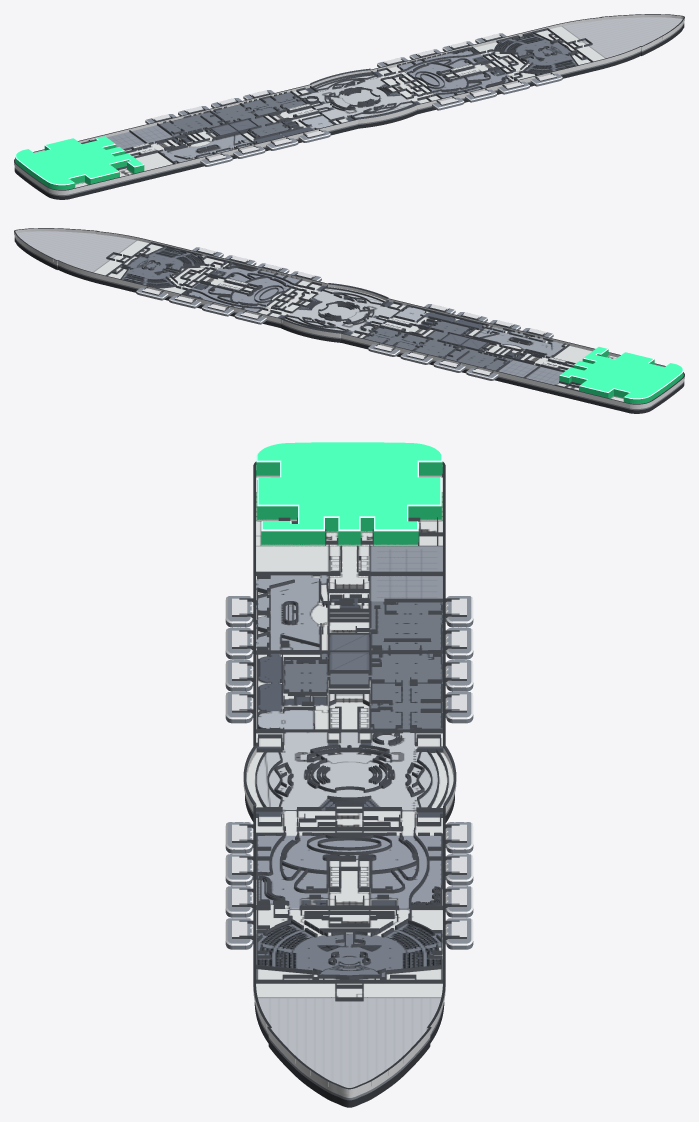
The model's file is Deck6_Il_Meneghino_Highlight.glb.
3 renders of one model, top to bottom at view 1: azimuth 30°, elevation 25°; view 2: azimuth 150°, elevation 25°; view 3: azimuth 270°, elevation 25°, orthographic. The views are drawn at different scales.
Parts seen in each view (by area): view 1: Deck6_Il_Meneghino_Interior_Walls_Monochrome, Deck6_Il_Meneghino_Main_Floor_Slab, Deck6_Il_Meneghino_Outer_Hull_Bulwark_Wall, Deck6_Il_Meneghino_MDR_Embossed_Highlight_Block, Deck6_Il_Meneghino_ZoneRelief_Arlecchino, Deck6_Il_Meneghino_ZoneRelief_Colosseo, Deck6_Il_Meneghino_Hull_Plinth_Obsidian, Deck6_Il_Meneghino_ZoneRelief_Mastroianni_Bar, Deck6_Il_Meneghino_ZoneRelief_Sanremo_Theatre, Deck6_Il_Meneghino_ZoneRelief_Jazz_Club, Deck6_Il_Meneghino_Hull_Waterline_Titanium, Deck6_Il_Meneghino_Engine_Casing_3D_Core; view 2: Deck6_Il_Meneghino_Interior_Walls_Monochrome, Deck6_Il_Meneghino_Main_Floor_Slab, Deck6_Il_Meneghino_Outer_Hull_Bulwark_Wall, Deck6_Il_Meneghino_MDR_Embossed_Highlight_Block, Deck6_Il_Meneghino_ZoneRelief_Arlecchino, Deck6_Il_Meneghino_ZoneRelief_Colosseo, Deck6_Il_Meneghino_Hull_Plinth_Obsidian, Deck6_Il_Meneghino_ZoneRelief_Mastroianni_Bar, Deck6_Il_Meneghino_ZoneRelief_Sanremo_Theatre, Deck6_Il_Meneghino_ZoneRelief_Jazz_Club, Deck6_Il_Meneghino_Hull_Waterline_Titanium, Deck6_Il_Meneghino_Engine_Casing_3D_Core; view 3: Deck6_Il_Meneghino_Main_Floor_Slab, Deck6_Il_Meneghino_Interior_Walls_Monochrome, Deck6_Il_Meneghino_MDR_Embossed_Highlight_Block, Deck6_Il_Meneghino_ZoneRelief_Arlecchino, Deck6_Il_Meneghino_ZoneRelief_Colosseo, Deck6_Il_Meneghino_ZoneRelief_Mastroianni_Bar, Deck6_Il_Meneghino_ZoneRelief_Sanremo_Theatre, Deck6_Il_Meneghino_Outer_Hull_Bulwark_Wall, Deck6_Il_Meneghino_ZoneRelief_Jazz_Club, Deck6_Il_Meneghino_Hull_Plinth_Obsidian, Deck6_Il_Meneghino_Engine_Casing_3D_Core, Deck6_Il_Meneghino_ZoneRelief_Photo_Store (+1 smaller).
Part boxes in pixels (x1,y1,x2,y2): Deck6_Il_Meneghino_Interior_Walls_Monochrome: [81, 28, 593, 170]; Deck6_Il_Meneghino_Main_Floor_Slab: [14, 17, 684, 194]; Deck6_Il_Meneghino_Outer_Hull_Bulwark_Wall: [14, 14, 684, 193]; Deck6_Il_Meneghino_MDR_Embossed_Highlight_Block: [15, 136, 144, 189]; Deck6_Il_Meneghino_ZoneRelief_Arlecchino: [159, 92, 305, 137]; Deck6_Il_Meneghino_ZoneRelief_Colosseo: [300, 75, 412, 119]; Deck6_Il_Meneghino_Hull_Plinth_Obsidian: [14, 24, 684, 199]; Deck6_Il_Meneghino_ZoneRelief_Mastroianni_Bar: [399, 50, 509, 97]; Deck6_Il_Meneghino_ZoneRelief_Sanremo_Theatre: [496, 33, 576, 74]; Deck6_Il_Meneghino_ZoneRelief_Jazz_Club: [160, 134, 251, 162]; Deck6_Il_Meneghino_Hull_Waterline_Titanium: [14, 23, 684, 196]; Deck6_Il_Meneghino_Engine_Casing_3D_Core: [209, 119, 256, 135]; Deck6_Il_Meneghino_Interior_Walls_Monochrome: [105, 242, 581, 390]; Deck6_Il_Meneghino_Main_Floor_Slab: [14, 231, 684, 408]; Deck6_Il_Meneghino_Outer_Hull_Bulwark_Wall: [14, 228, 684, 407]; Deck6_Il_Meneghino_MDR_Embossed_Highlight_Block: [559, 347, 683, 403]; Deck6_Il_Meneghino_ZoneRelief_Arlecchino: [365, 321, 513, 370]; Deck6_Il_Meneghino_ZoneRelief_Colosseo: [287, 288, 398, 333]; Deck6_Il_Meneghino_Hull_Plinth_Obsidian: [14, 238, 684, 413]; Deck6_Il_Meneghino_ZoneRelief_Mastroianni_Bar: [189, 264, 299, 312]; Deck6_Il_Meneghino_ZoneRelief_Sanremo_Theatre: [122, 247, 203, 287]; Deck6_Il_Meneghino_ZoneRelief_Jazz_Club: [475, 327, 563, 357]; Deck6_Il_Meneghino_Hull_Waterline_Titanium: [14, 237, 684, 410]; Deck6_Il_Meneghino_Engine_Casing_3D_Core: [442, 333, 489, 349]; Deck6_Il_Meneghino_Main_Floor_Slab: [246, 470, 453, 1097]; Deck6_Il_Meneghino_Interior_Walls_Monochrome: [255, 467, 448, 1001]; Deck6_Il_Meneghino_MDR_Embossed_Highlight_Block: [256, 442, 442, 544]; Deck6_Il_Meneghino_ZoneRelief_Arlecchino: [284, 601, 442, 729]; Deck6_Il_Meneghino_ZoneRelief_Colosseo: [256, 732, 437, 811]; Deck6_Il_Meneghino_ZoneRelief_Mastroianni_Bar: [257, 835, 441, 909]; Deck6_Il_Meneghino_ZoneRelief_Sanremo_Theatre: [257, 923, 441, 978]; Deck6_Il_Meneghino_Outer_Hull_Bulwark_Wall: [243, 461, 456, 1094]; Deck6_Il_Meneghino_ZoneRelief_Jazz_Club: [256, 575, 328, 650]; Deck6_Il_Meneghino_Hull_Plinth_Obsidian: [245, 794, 454, 1107]; Deck6_Il_Meneghino_Engine_Casing_3D_Core: [330, 634, 368, 669]; Deck6_Il_Meneghino_ZoneRelief_Photo_Store: [258, 653, 282, 712].
Size of the model in its own units: 67.45 by 1.46 by 11.05.
Materials: 18 (2 with a texture image).
